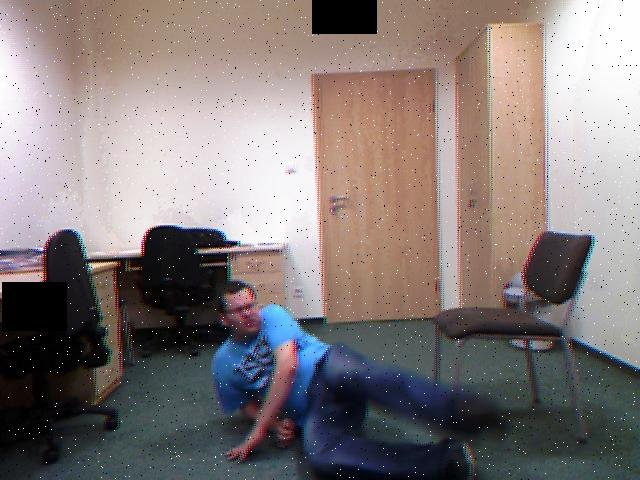fall: (196, 269, 518, 480)
